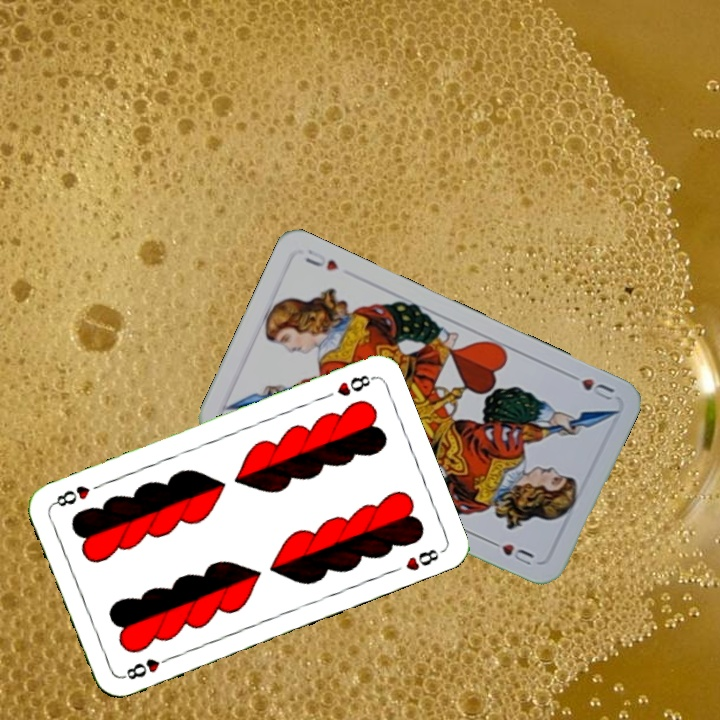H8: (118, 652, 175, 682), (332, 371, 376, 399)
HU: (562, 368, 617, 403)
